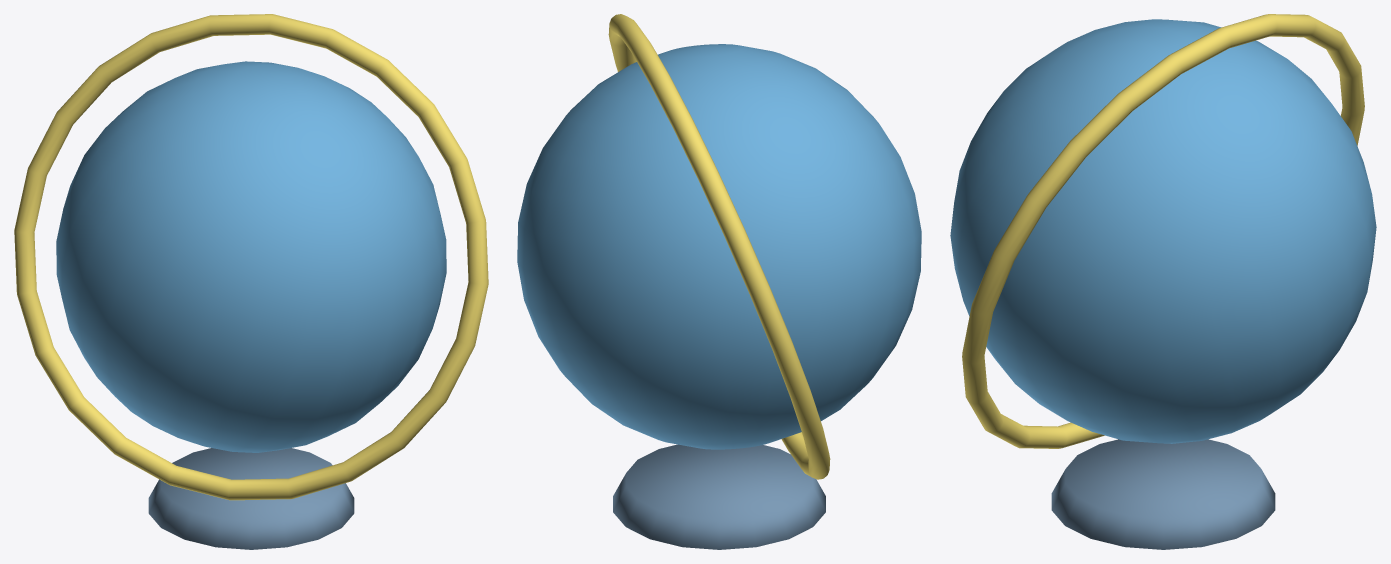
Rendered from globe.glb.
3 renders of one model, left to right at view 1: azimuth 30°, elevation 25°; view 2: azimuth 150°, elevation 25°; view 3: azimuth 270°, elevation 25°, orthographic. The views are drawn at different scales.
Visible parts, largest first — view 1: sphere, arc, stand; view 2: sphere, stand, arc; view 3: sphere, stand, arc.
Boxes of the visible parts, x1,y1,x2,y2 form: sphere: (56,61,446,452); arc: (14,14,488,500); stand: (148,448,354,549); sphere: (517,44,921,449); stand: (613,444,825,549); arc: (608,14,830,479); sphere: (950,19,1376,443); stand: (1051,439,1275,549); arc: (962,14,1364,448).
Bounding box in the file's own units: 1.5 × 1.94 × 1.5.
